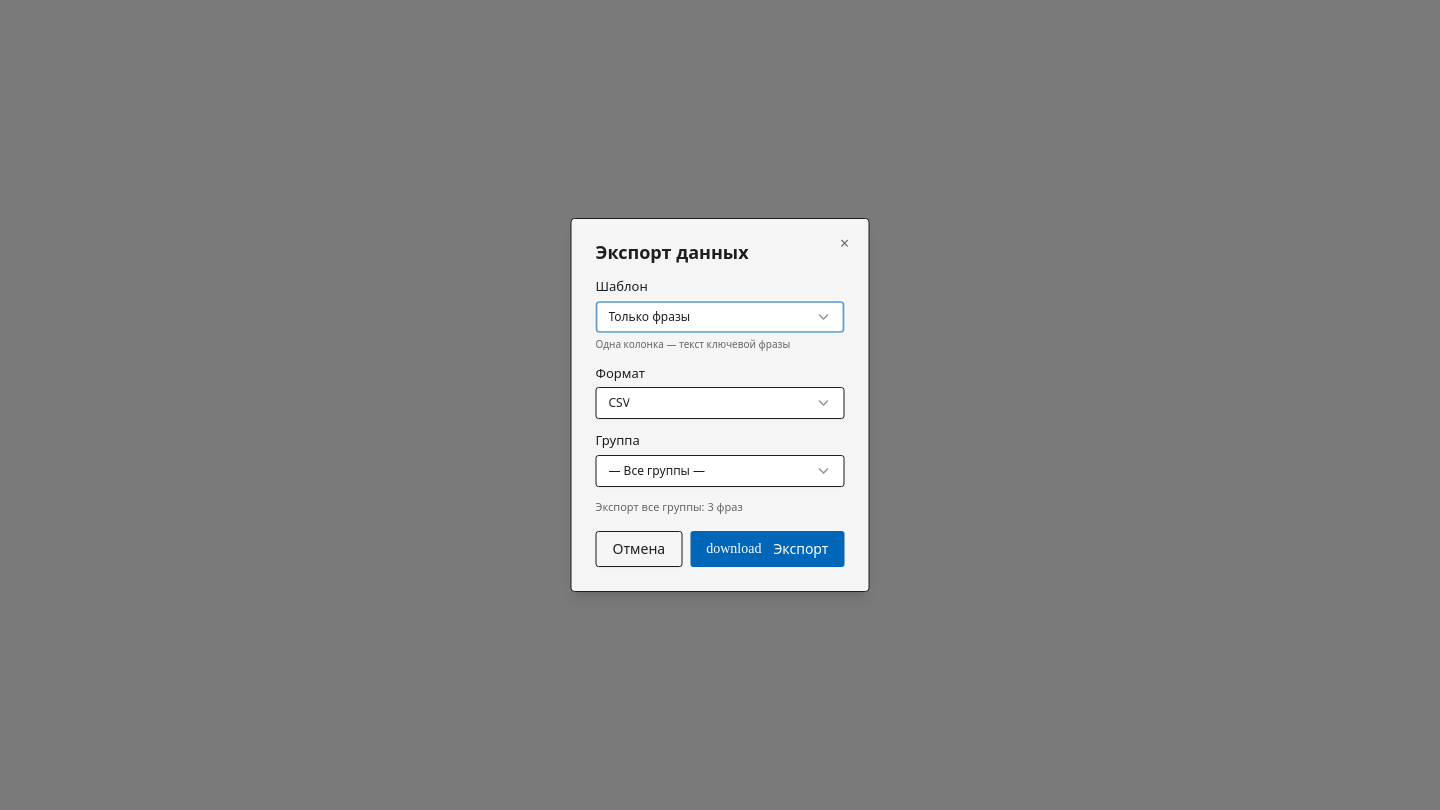
Test: ExportDialog › should show format selector
Expected: the text "Формат" is shown, x1=596 y1=364 x2=645 y2=382
Click the dropdown named "Формат экспорта".
click(720, 403)  # box x1=596 y1=387 x2=844 y2=419
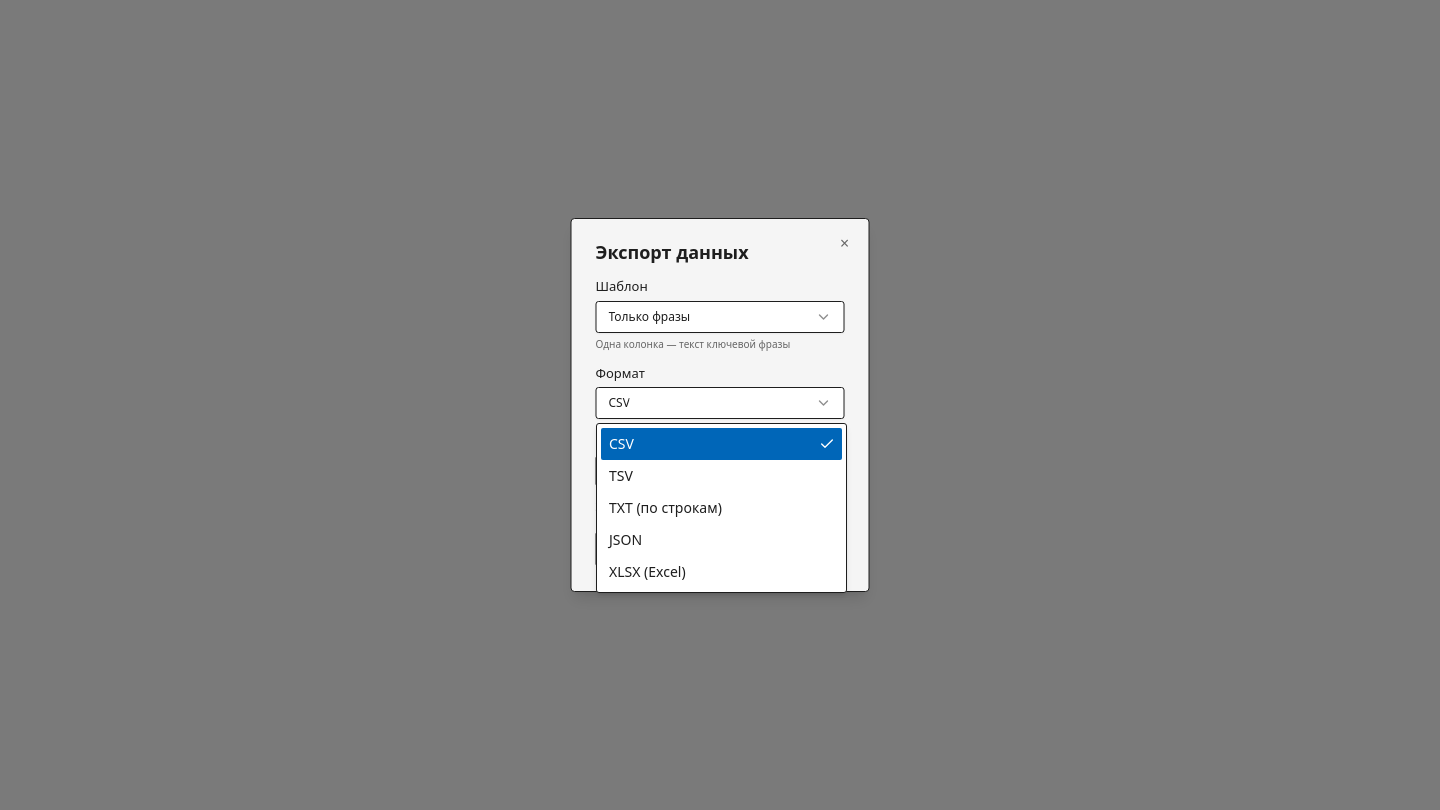
Now the text "TSV" is shown, box x1=609 y1=466 x2=633 y2=486
Now the text "JSON" is shown, box x1=609 y1=530 x2=642 y2=550
